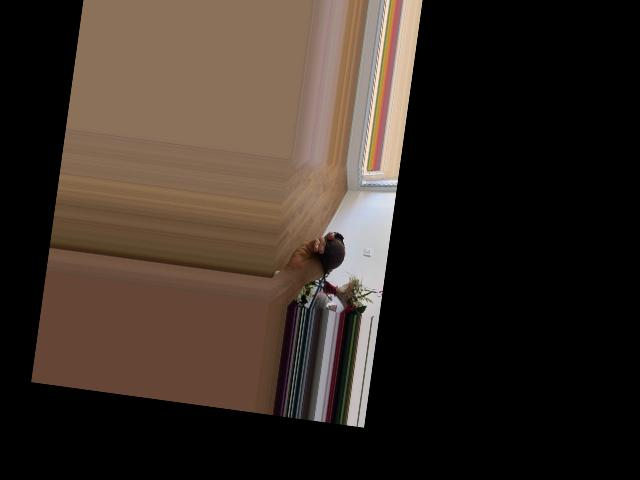beet: (315, 230, 347, 300)
